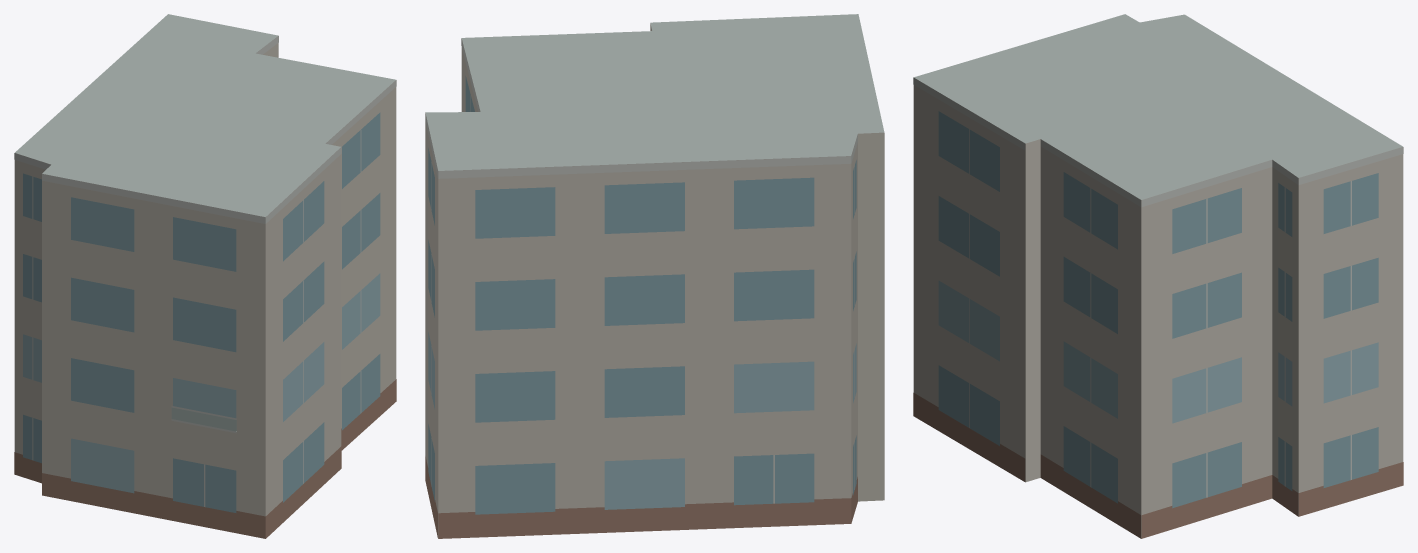
The model's file is survey-upis-33032205.glb.
3 views of the same model, side by side, from view 1: azimuth 30°, elevation 25°; view 2: azimuth 150°, elevation 25°; view 3: azimuth 270°, elevation 25° (orthographic). The views are drawn at different scales.
Visible parts, largest first — view 1: survey-upis-33032205.tmp; view 2: survey-upis-33032205.tmp; view 3: survey-upis-33032205.tmp.
Boxes of the visible parts, <box> form: survey-upis-33032205.tmp: <box>14,14,396,538</box>; survey-upis-33032205.tmp: <box>425,14,884,538</box>; survey-upis-33032205.tmp: <box>913,14,1403,538</box>.
Bounding box in the file's own units: 13.44 × 11.4 × 14.95.
